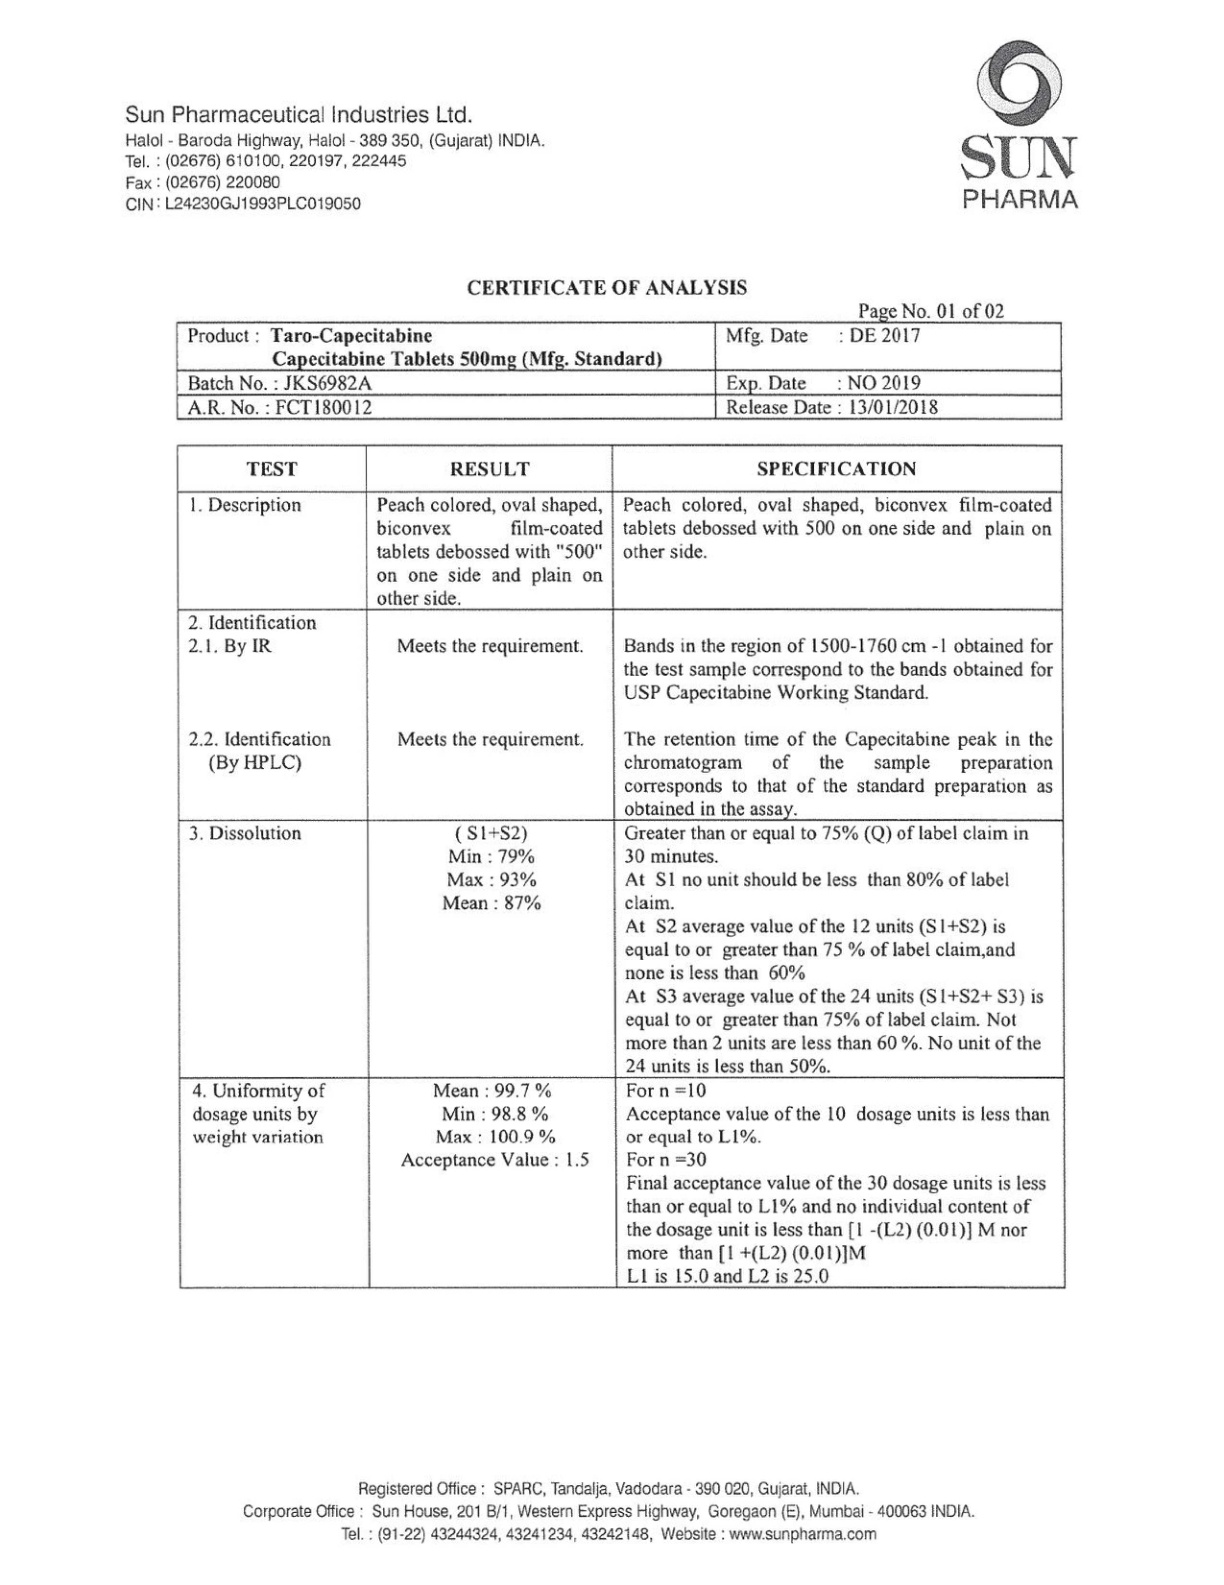full_lined: (176, 443, 1066, 1289), (176, 320, 1063, 420)
